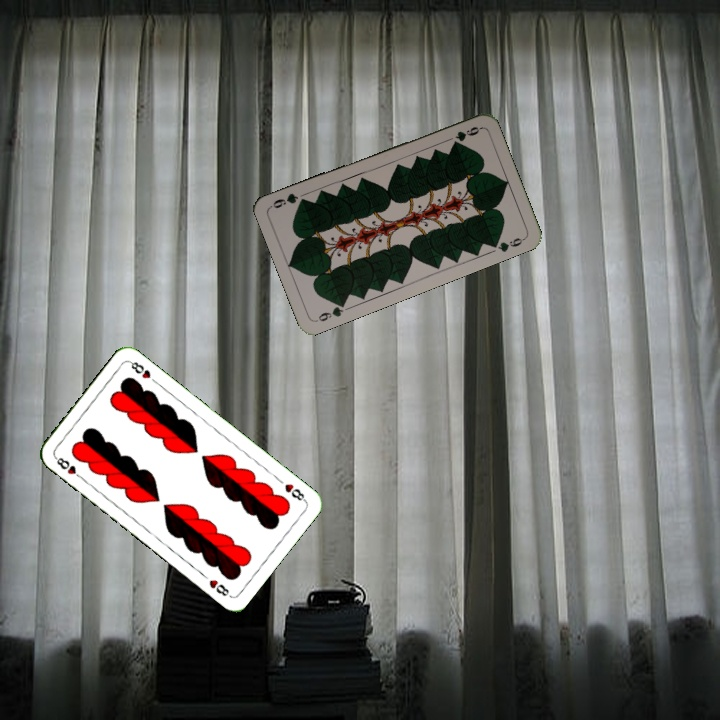G9: (312, 297, 349, 324), (444, 122, 483, 144)
H8: (51, 453, 86, 482), (281, 480, 309, 504)
